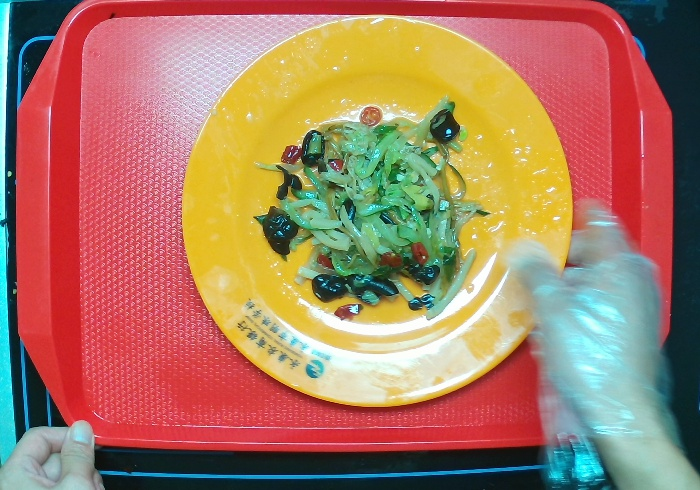YKMZ-Ju_Se_Mian_Pan: (180, 13, 574, 409)
